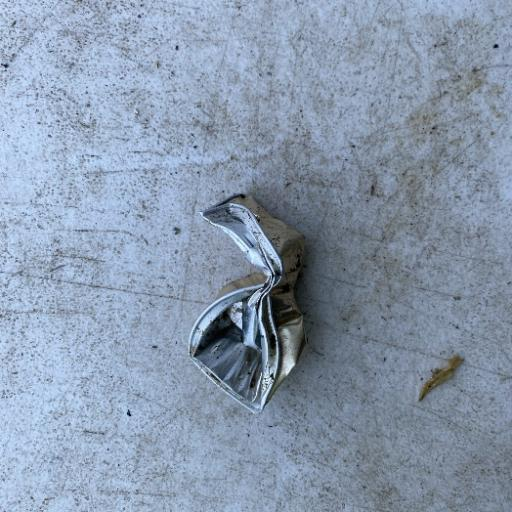Metal: (186, 192, 308, 416)
